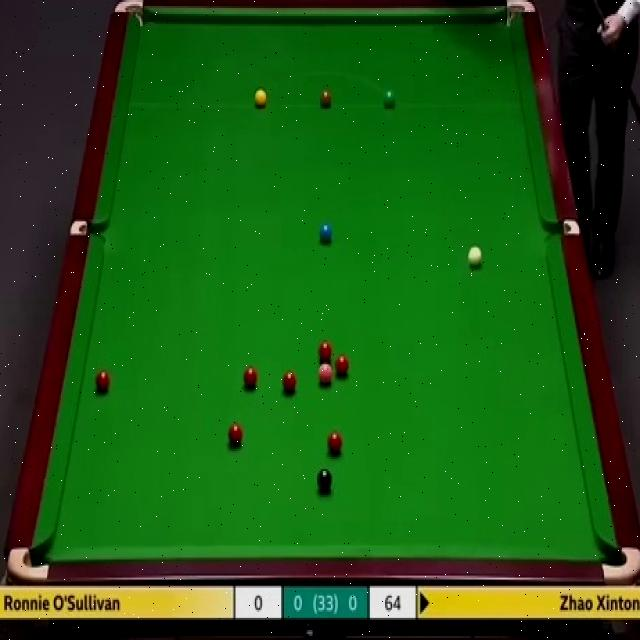black-ball: (316, 469, 333, 490)
blue-ball: (320, 220, 334, 245)
brown-ball: (319, 90, 333, 108)
green-ball: (382, 90, 396, 108)
pink-ball: (316, 363, 333, 386)
red-ball: (242, 364, 260, 390), (327, 430, 343, 456), (334, 354, 351, 378), (229, 423, 244, 447), (317, 339, 333, 361), (95, 370, 111, 392), (282, 370, 297, 391)
white-ball: (466, 246, 484, 268)
yellow-ball: (255, 89, 268, 107)
